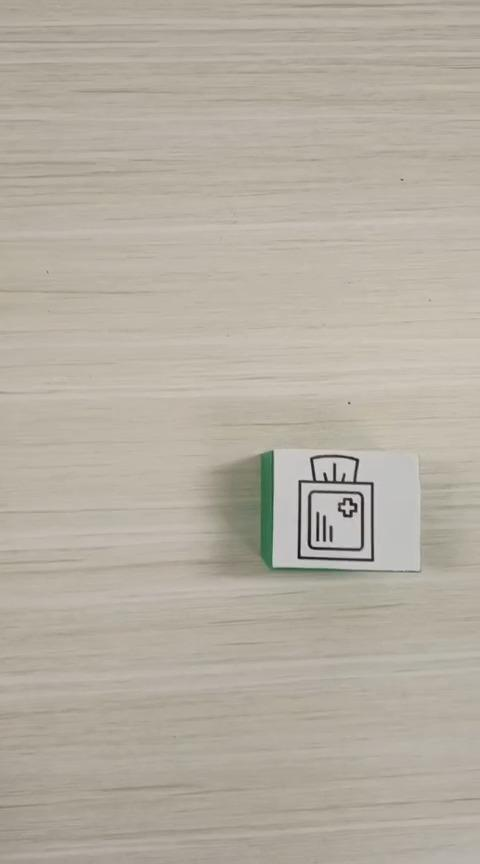Gauze: (258, 447, 421, 573)
